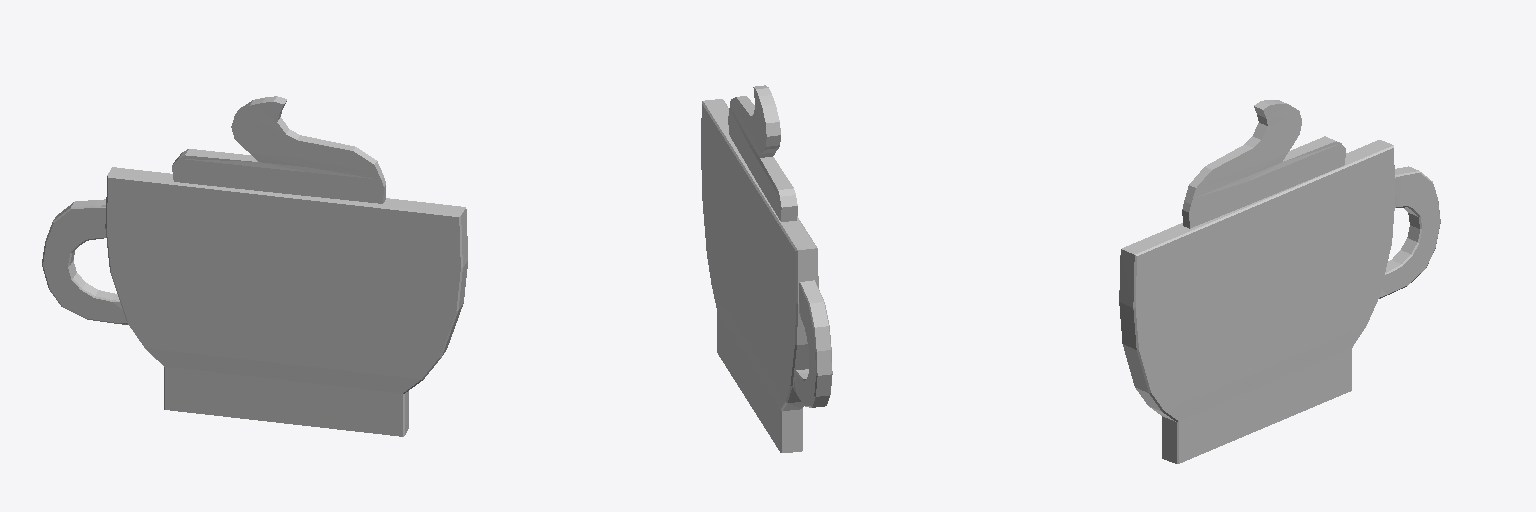
The model's file is shopsign.obj.
3 renders of one model, left to right at view 1: azimuth 30°, elevation 25°; view 2: azimuth 150°, elevation 25°; view 3: azimuth 270°, elevation 25°, orthographic.
Parts seen in each view (by area): view 1: Sign Cup, Whipcream Sign, Sign Handle; view 2: Sign Cup, Whipcream Sign, Sign Handle; view 3: Sign Cup, Whipcream Sign, Sign Handle.
Boxes of the visible parts, box(x1,y1,x2,y2) form: Sign Cup: box(105, 167, 467, 436); Whipcream Sign: box(172, 96, 385, 203); Sign Handle: box(42, 199, 127, 324); Sign Cup: box(701, 99, 818, 452); Whipcream Sign: box(728, 85, 797, 221); Sign Handle: box(793, 280, 832, 407); Sign Cup: box(1119, 140, 1394, 463); Whipcream Sign: box(1182, 100, 1345, 228); Sign Handle: box(1379, 166, 1440, 298).
Bounding box in the file's own units: 190 × 207 × 190.